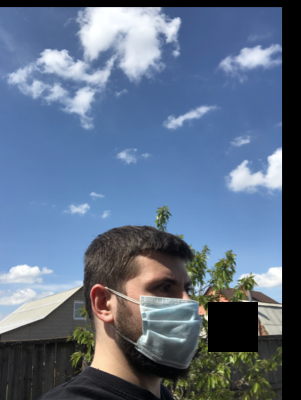with_mask: (133, 269, 201, 374)
